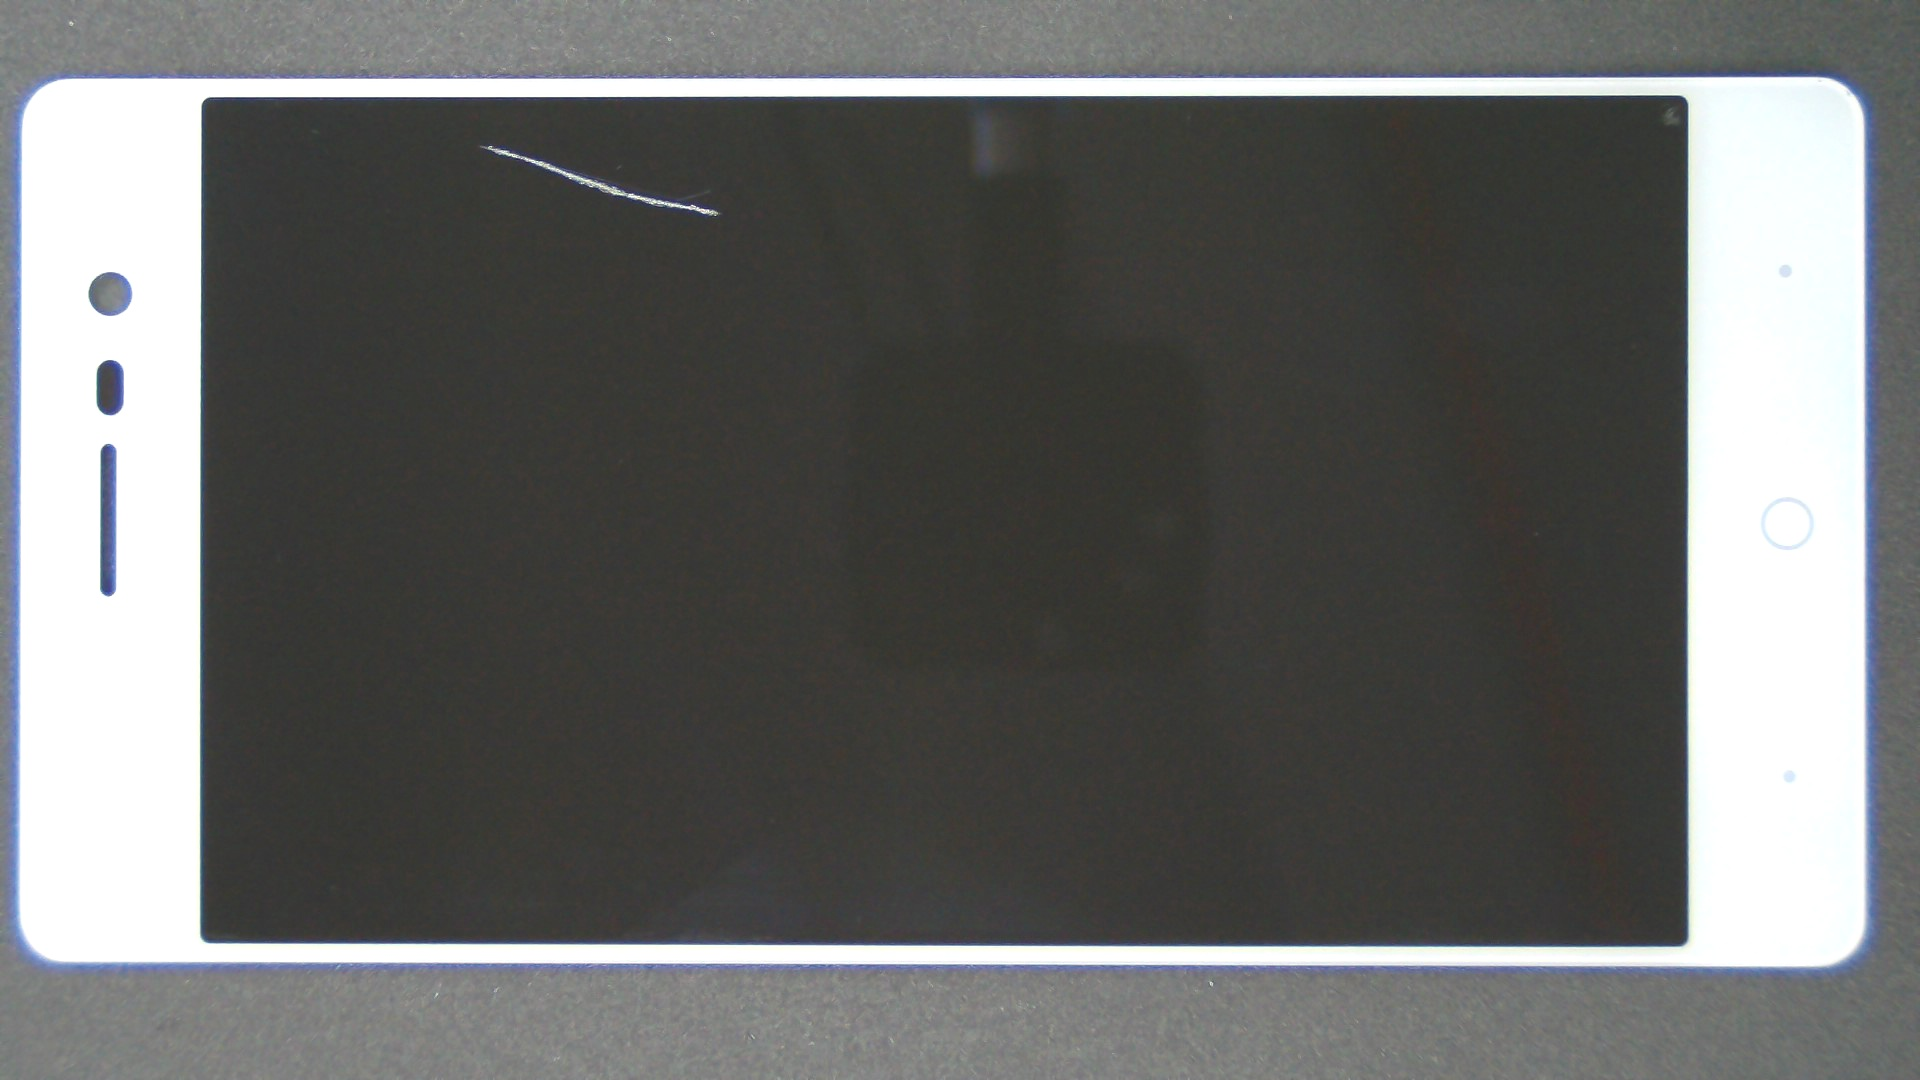oil: (240, 71, 719, 219)
